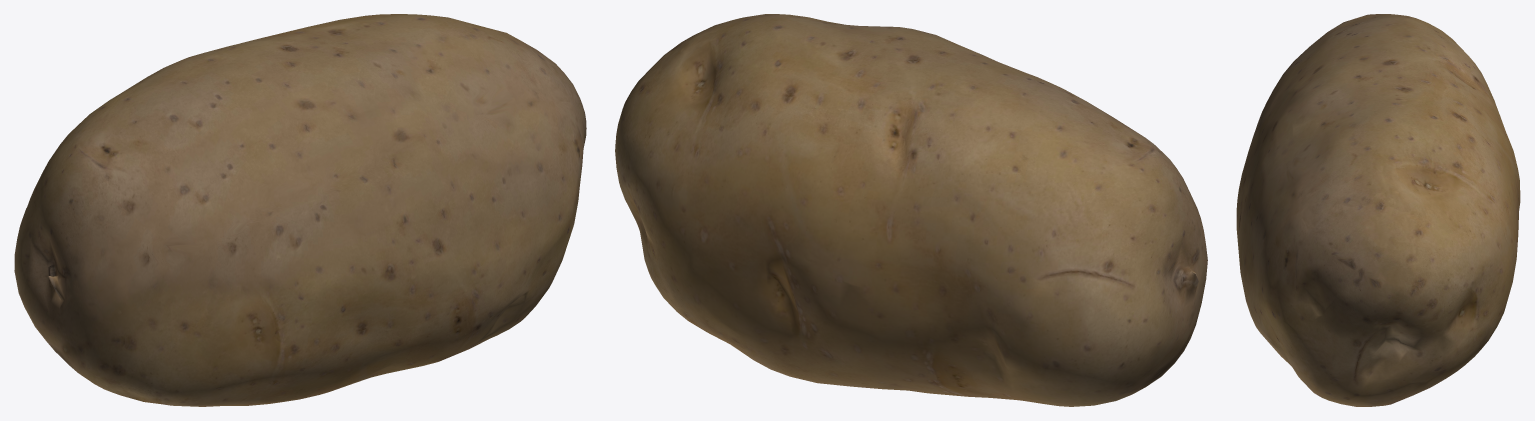
File: Potato.glb
3 renders of one model, left to right at view 1: azimuth 30°, elevation 25°; view 2: azimuth 150°, elevation 25°; view 3: azimuth 270°, elevation 25°, orthographic. The views are drawn at different scales.
Parts seen in each view (by area): view 1: node_Potato_-305050; view 2: node_Potato_-305050; view 3: node_Potato_-305050.
Boxes of the visible parts, x1=… form: node_Potato_-305050: x1=14, y1=14, x2=586, y2=406; node_Potato_-305050: x1=615, y1=14, x2=1207, y2=406; node_Potato_-305050: x1=1236, y1=14, x2=1520, y2=406.
Bounding box in the file's own units: 0.0825 × 0.0476 × 0.0436.
1 material, 1 textured.
